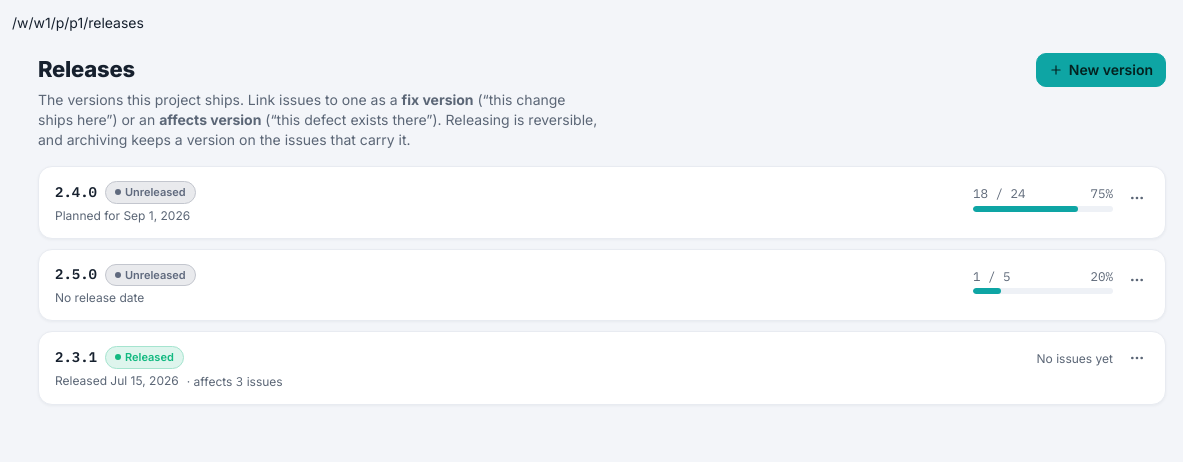
Test: ReleasesPage — lifecycle actions › offers "Release…" while unreleased and "Un-release" once released
The image size is (1183, 462).
Click the button named "Actions for 2.4.0" at (1137, 198), box [1125, 186, 1149, 210]
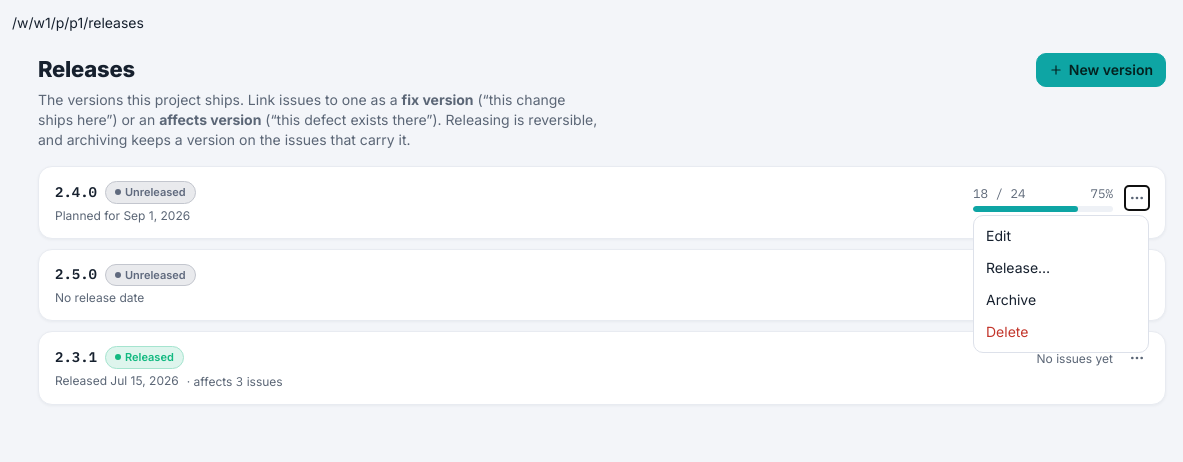
Check: the menu item "Un-release" is not shown
Check: the menu item "Release…" is shown, box [974, 252, 1148, 284]
Click the button named "Actions for 2.3.1" at (1137, 358), box [1125, 346, 1149, 370]
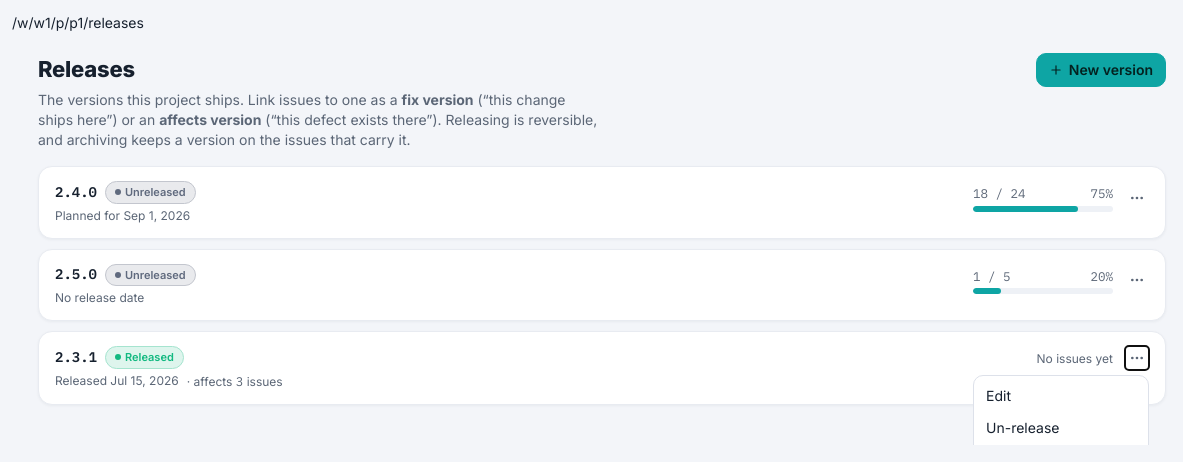
Check: the menu item "Un-release" is shown, box [974, 412, 1148, 444]
